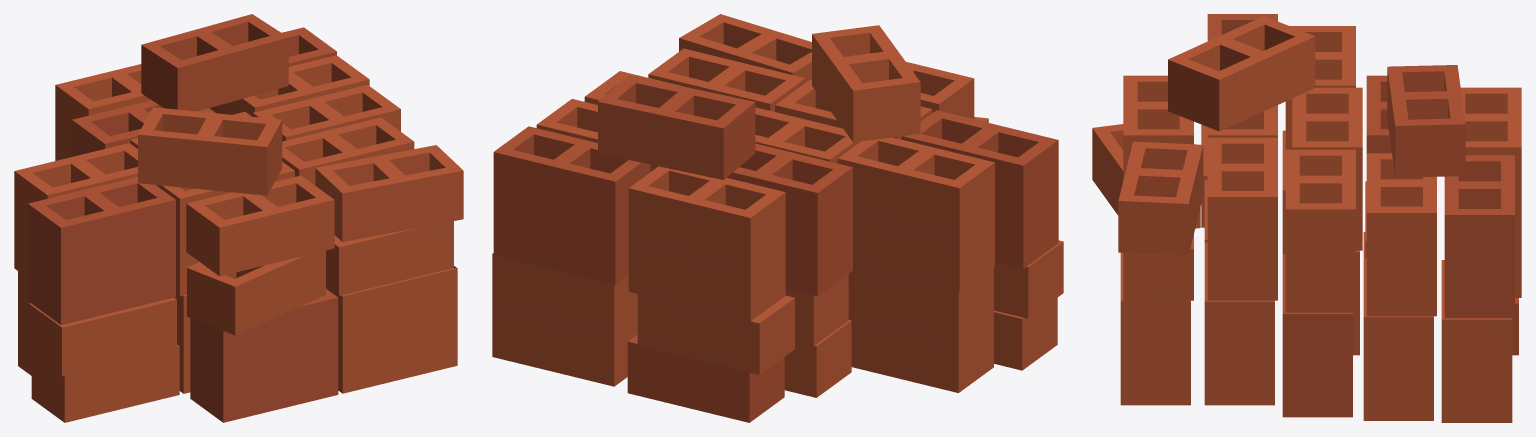
The model's file is Bricks_1_4.fbx.
3 renders of one model, left to right at view 1: azimuth 30°, elevation 25°; view 2: azimuth 150°, elevation 25°; view 3: azimuth 270°, elevation 25°, orthographic. The views are drawn at different scales.
Parts seen in each view (by area): view 1: Bricks_1_4; view 2: Bricks_1_4; view 3: Bricks_1_4.
Boxes of the visible parts, x1=… form: Bricks_1_4: x1=14, y1=14, x2=463, y2=422; Bricks_1_4: x1=492, y1=14, x2=1063, y2=422; Bricks_1_4: x1=1092, y1=14, x2=1521, y2=422.
Size of the model in its own units: 119 by 70.91 by 107.
